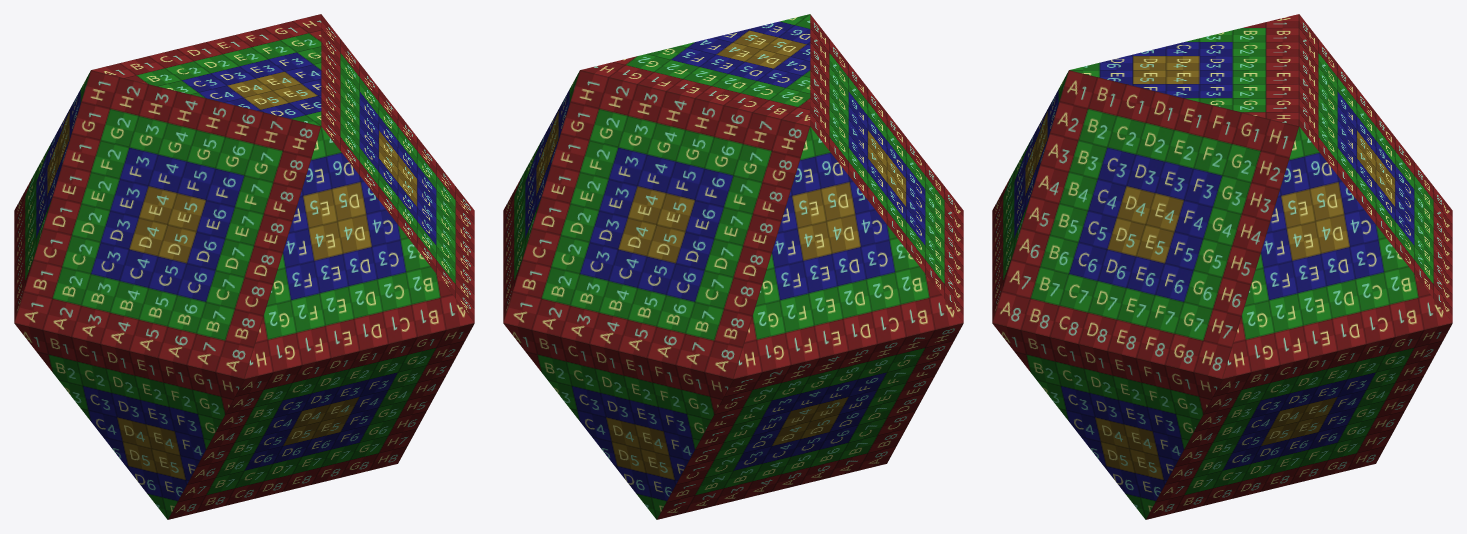
The model's file is cuboctahedron precise.dae.
3 views of the same model, side by side, from view 1: azimuth 30°, elevation 25°; view 2: azimuth 150°, elevation 25°; view 3: azimuth 270°, elevation 25° (orthographic).
Parts seen in each view (by area): view 1: Carbon_atom; view 2: Carbon_atom; view 3: Carbon_atom.
Boxes of the visible parts, x1,y1,x2,y2 form: Carbon_atom: (14, 14, 474, 519); Carbon_atom: (503, 14, 963, 519); Carbon_atom: (992, 14, 1452, 519).
Size of the model in its own units: 0.4311 by 0.3733 by 0.352.
